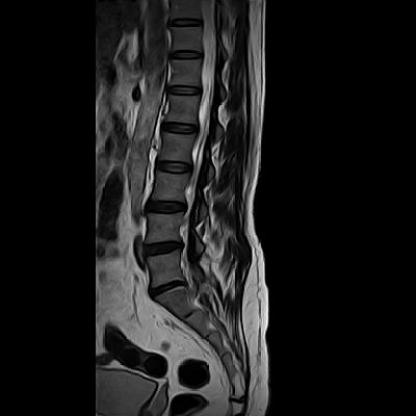Disc Bulgerotation: (141, 238, 184, 259), (147, 281, 189, 298)
